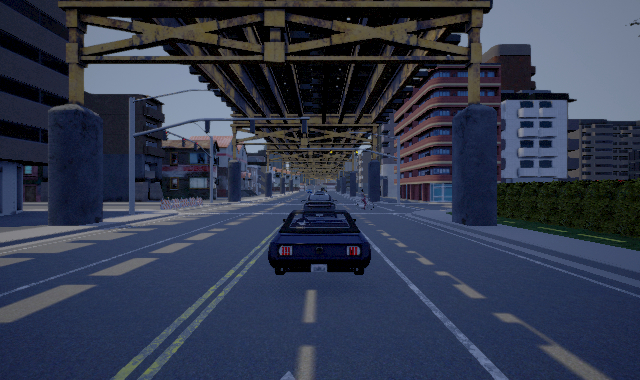bike: (354, 189, 377, 211)
traffic_light: (194, 142, 199, 151), (182, 137, 186, 147), (355, 149, 358, 156), (330, 149, 332, 156)
vehicle: (267, 208, 371, 275), (300, 192, 338, 219)
